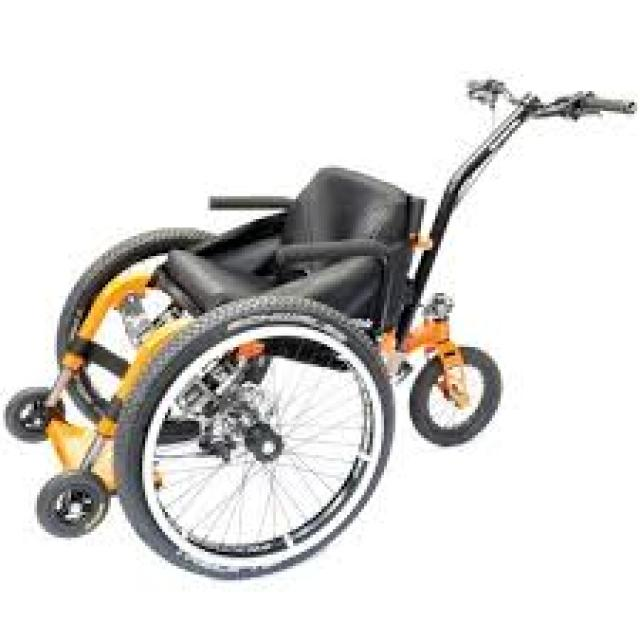wheelchairs: (31, 148, 418, 583)
